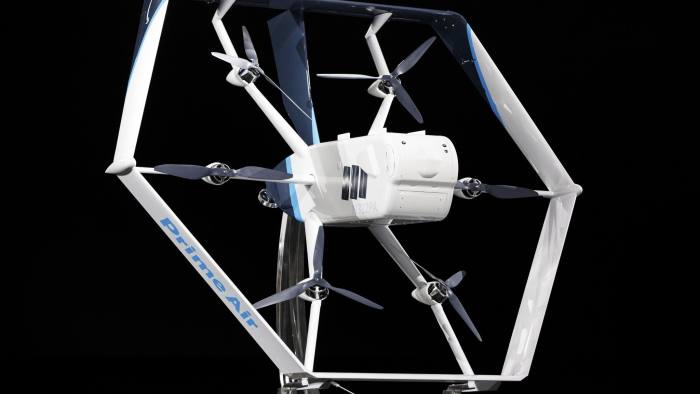drone: (99, 3, 595, 393)
